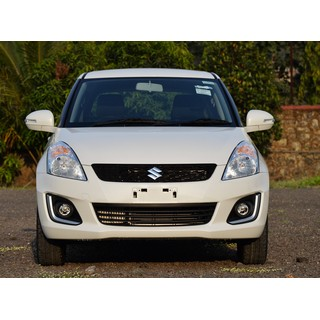car: (35, 66, 270, 266)
